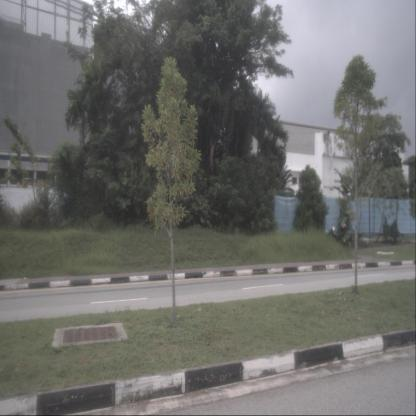vehicle-motorcycle: (324, 219, 351, 250)
